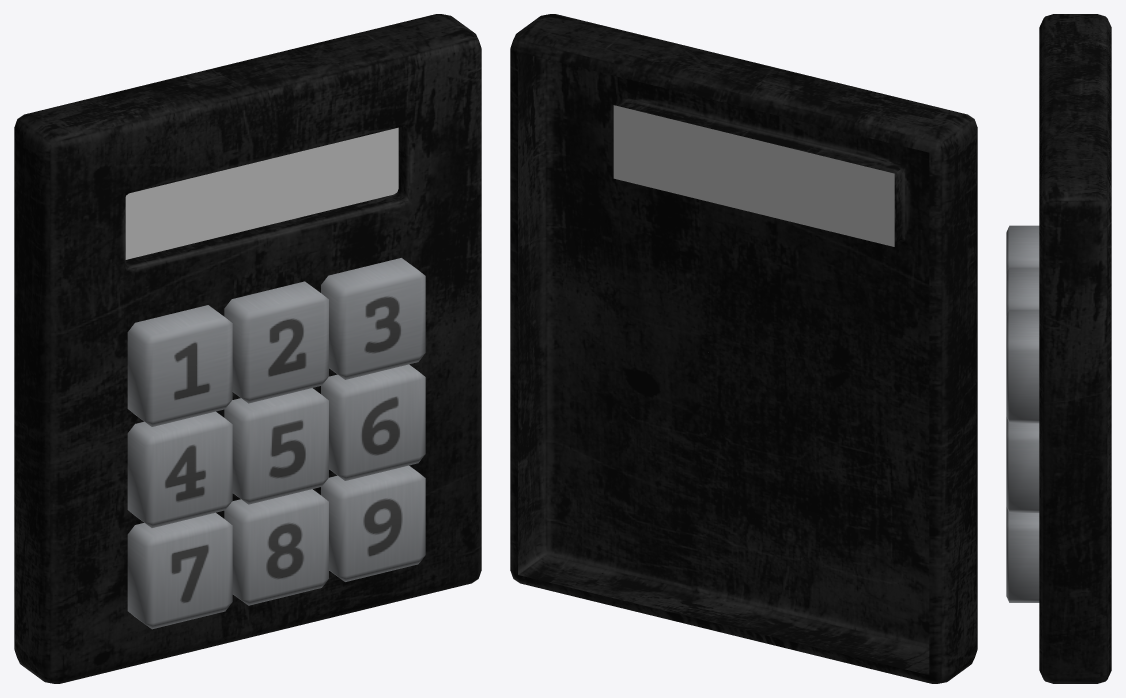
The model's file is Keypad.fbx.
The picture shows the model from 3 angles, left to right: view 1: azimuth 30°, elevation 25°; view 2: azimuth 150°, elevation 25°; view 3: azimuth 270°, elevation 25°; orthographic projection. The views are drawn at different scales.
Parts seen in each view (by area): view 1: Keypad_9, btn_1_0, btn_4_3, btn_7_6, btn_3_2, btn_2_1, btn_8_7, btn_6_5, btn_5_4, btn_9_8, Screen3_12, Screen4_13 (+2 smaller); view 2: Keypad_9, Screen4_13, Screen2_11, Screen1_10.001, Screen3_12; view 3: Keypad_9, btn_3_2, btn_6_5, btn_9_8, btn_1_0, btn_2_1.
Part boxes in pixels (x1,y1,x2,y2): Keypad_9: (14,14,481,683); btn_1_0: (127,305,232,426); btn_4_3: (127,411,232,527); btn_7_6: (127,512,232,629); btn_3_2: (321,258,425,379); btn_2_1: (224,281,328,403); btn_8_7: (224,489,328,605); btn_6_5: (321,364,425,480); btn_5_4: (224,388,328,504); btn_9_8: (321,465,425,581); Screen3_12: (258,145,328,227); Screen4_13: (328,127,398,210); Keypad_9: (510,14,977,683); Screen4_13: (613,105,683,195); Screen2_11: (754,139,824,229); Screen1_10.001: (824,156,894,246); Screen3_12: (684,122,753,212); Keypad_9: (1039,14,1111,683); btn_3_2: (1006,309,1039,423); btn_6_5: (1006,417,1039,512); btn_9_8: (1006,507,1039,602); btn_1_0: (1006,225,1039,273); btn_2_1: (1006,267,1039,315).
Size of the model in its own units: 0.25 by 0.3 by 0.0583.
